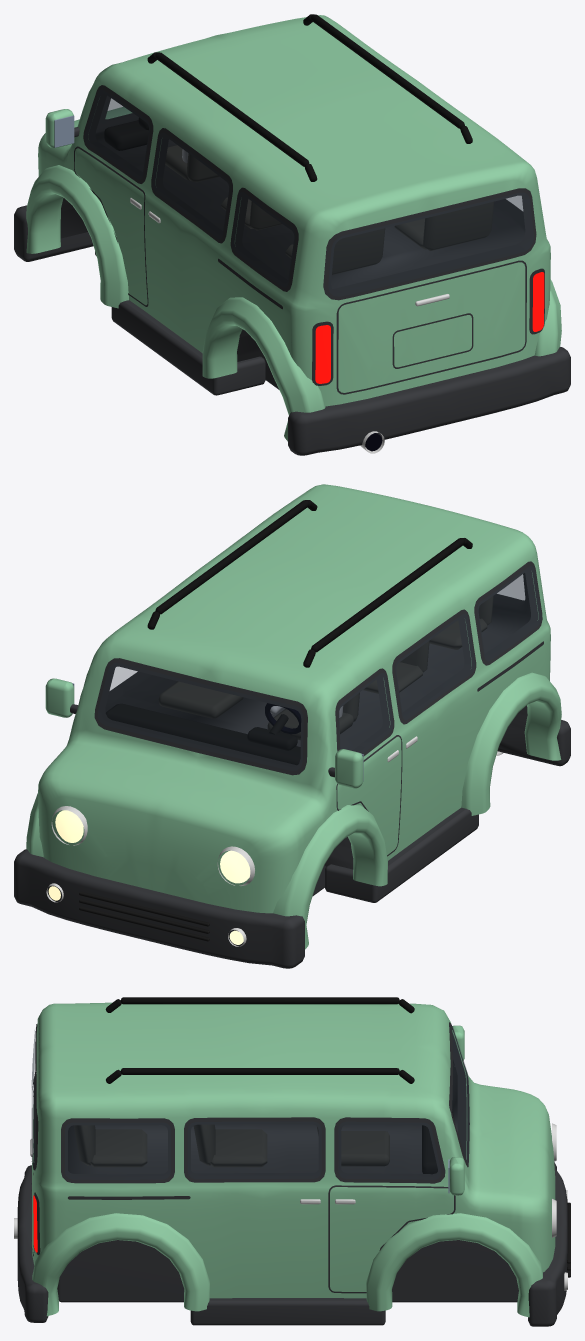
File: car_van.glb
3 renders of one model, top to bottom at view 1: azimuth 30°, elevation 25°; view 2: azimuth 150°, elevation 25°; view 3: azimuth 270°, elevation 25°, orthographic. The views are drawn at different scales.
Parts seen in each view (by area): view 1: body_q, detail_q; view 2: body_q, detail_q; view 3: body_q, detail_q.
Part boxes in pixels (bbox=[...]): body_q: bbox=[14, 15, 570, 455]; detail_q: bbox=[54, 14, 494, 453]; body_q: bbox=[14, 484, 570, 968]; detail_q: bbox=[46, 500, 503, 946]; body_q: bbox=[17, 1002, 567, 1326]; detail_q: bbox=[14, 997, 570, 1290].
Size of the model in its own units: 2.42 by 1.87 by 3.99.
